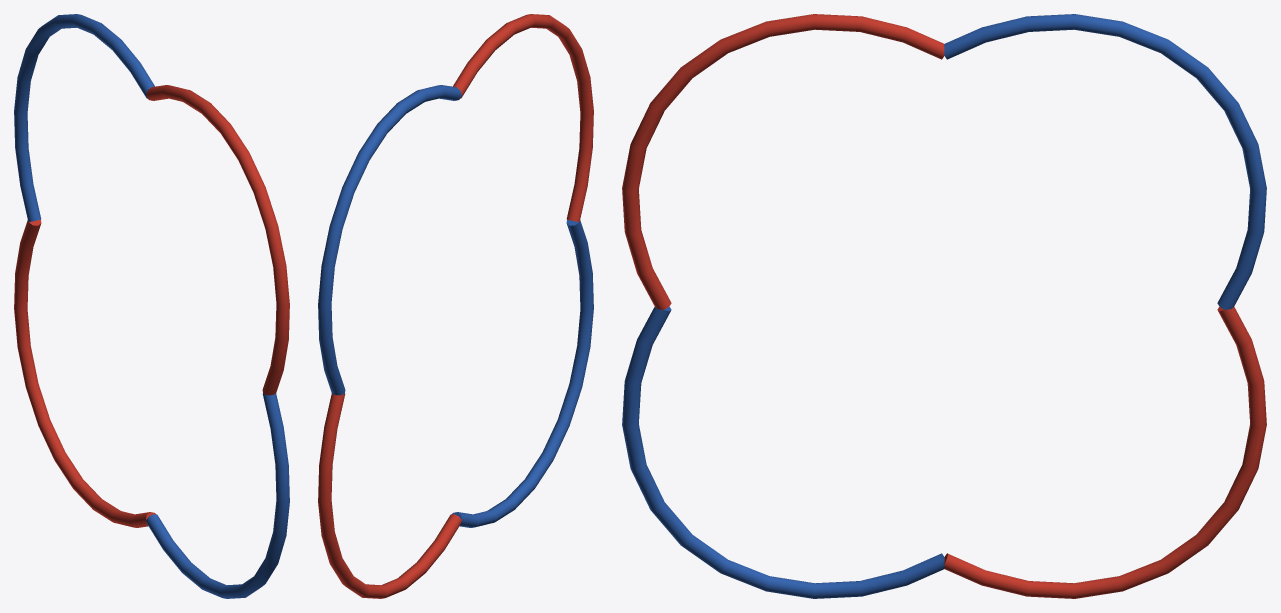
Rendered from alternator_magnetic_field.glb.
The picture shows the model from 3 angles, left to right: view 1: azimuth 30°, elevation 25°; view 2: azimuth 150°, elevation 25°; view 3: azimuth 270°, elevation 25°; orthographic projection. The views are drawn at different scales.
Visible parts, largest first — view 1: mf; view 2: mf; view 3: mf.
Boxes of the visible parts, bbox=[...] form: mf: bbox=[14, 14, 289, 598]; mf: bbox=[318, 14, 593, 598]; mf: bbox=[622, 14, 1266, 598].
Bounding box in the file's own units: 0.012 × 0.4599 × 0.4599.
